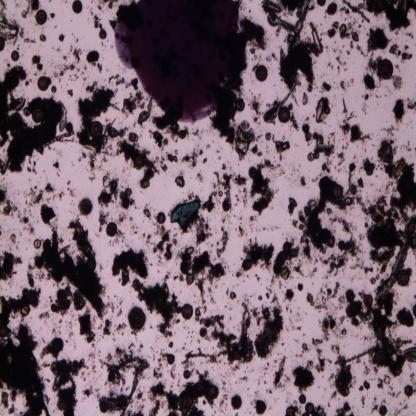Background material: (0, 67, 74, 173), (32, 229, 108, 320), (0, 285, 50, 415), (290, 175, 364, 257), (74, 81, 126, 160), (40, 336, 86, 415), (367, 308, 416, 378), (141, 370, 214, 416), (208, 302, 255, 368), (362, 202, 404, 272), (132, 277, 181, 337), (378, 136, 416, 211), (279, 29, 324, 92), (118, 140, 160, 190), (212, 110, 256, 157), (364, 0, 416, 34), (256, 303, 286, 360), (194, 250, 226, 303), (339, 96, 373, 144), (99, 343, 136, 387), (250, 160, 277, 219), (300, 123, 335, 168), (326, 235, 362, 278), (110, 249, 149, 286), (239, 238, 272, 278), (240, 15, 270, 58), (274, 240, 305, 280), (67, 216, 96, 258), (144, 224, 176, 260), (50, 46, 82, 82), (329, 352, 353, 400), (154, 115, 189, 142), (315, 282, 345, 313), (326, 205, 354, 238), (212, 170, 233, 213), (192, 306, 228, 329), (291, 360, 315, 394), (0, 0, 19, 40), (341, 0, 370, 25), (0, 251, 23, 281), (97, 175, 119, 206), (257, 3, 284, 28), (180, 347, 217, 365), (78, 309, 97, 344), (97, 394, 130, 414), (284, 302, 305, 333), (376, 286, 396, 318), (22, 185, 44, 214), (0, 184, 19, 217), (346, 301, 368, 328), (403, 210, 416, 255), (395, 303, 416, 330), (272, 134, 292, 162), (320, 314, 340, 342), (193, 216, 211, 247), (314, 347, 332, 378), (234, 171, 248, 210), (247, 93, 264, 125), (176, 244, 194, 274), (343, 348, 371, 367), (346, 24, 361, 57), (40, 203, 58, 230), (150, 351, 167, 379), (389, 42, 412, 62), (314, 96, 331, 123), (87, 150, 100, 182), (86, 351, 98, 385), (216, 227, 228, 260), (202, 191, 218, 215), (181, 147, 199, 168), (95, 206, 110, 231), (392, 98, 406, 124), (321, 21, 339, 41), (362, 73, 382, 91), (119, 189, 136, 210), (152, 128, 168, 150), (361, 155, 376, 177), (218, 378, 228, 408), (286, 194, 298, 218), (375, 374, 393, 390), (20, 216, 35, 235), (334, 402, 354, 416), (86, 49, 100, 68), (25, 264, 36, 288), (101, 318, 114, 338), (125, 77, 141, 92), (390, 74, 403, 92), (265, 284, 278, 302), (30, 54, 43, 72), (335, 56, 348, 74), (338, 150, 348, 173), (112, 232, 126, 248), (340, 78, 354, 94), (108, 72, 124, 86), (286, 402, 302, 416), (128, 216, 139, 236), (319, 80, 331, 98), (367, 53, 377, 74), (325, 3, 339, 18), (359, 93, 370, 112), (298, 341, 310, 358), (379, 124, 394, 137), (386, 385, 402, 397), (394, 403, 408, 416), (66, 180, 76, 198), (93, 15, 104, 31), (116, 210, 127, 226), (272, 372, 282, 389), (0, 392, 10, 409), (358, 380, 371, 393), (116, 295, 124, 316), (116, 320, 127, 335), (348, 157, 357, 175), (142, 204, 152, 220), (314, 404, 327, 416), (126, 130, 139, 142), (236, 225, 248, 238), (165, 152, 179, 163), (306, 291, 315, 308), (406, 97, 416, 112), (83, 386, 95, 398), (358, 392, 366, 410), (251, 145, 263, 157), (357, 44, 366, 60), (26, 160, 37, 173), (174, 175, 185, 188), (226, 288, 236, 302), (284, 288, 294, 302), (28, 0, 40, 11), (237, 374, 248, 386), (103, 0, 116, 10), (45, 182, 55, 195), (298, 174, 307, 188), (311, 336, 323, 346), (194, 172, 204, 184), (23, 35, 36, 44), (301, 92, 309, 106), (56, 190, 66, 201), (21, 8, 31, 19), (190, 127, 200, 137), (370, 276, 380, 286), (364, 265, 374, 275), (52, 160, 61, 171), (7, 404, 16, 414), (174, 273, 184, 282), (58, 32, 66, 43), (316, 0, 327, 8), (327, 61, 335, 72), (39, 32, 47, 43), (10, 233, 17, 245), (97, 62, 104, 74), (19, 25, 25, 39), (71, 36, 80, 45), (263, 387, 273, 395), (67, 88, 74, 99), (176, 373, 181, 388), (161, 162, 168, 172), (341, 327, 348, 336), (266, 132, 272, 142), (202, 157, 209, 165), (49, 12, 56, 20), (339, 316, 346, 324), (298, 283, 304, 292), (198, 148, 204, 156), (168, 340, 174, 348), (24, 80, 30, 87), (206, 144, 211, 152), (6, 62, 12, 68), (257, 296, 262, 302)
Cellulose filter fibre: (380, 232, 416, 292), (264, 73, 297, 123), (120, 361, 146, 415), (285, 0, 312, 50), (267, 14, 296, 34)
Diatom: (127, 309, 146, 330), (377, 58, 394, 80), (398, 269, 411, 288), (254, 65, 269, 81), (254, 399, 267, 415), (180, 304, 193, 320), (79, 199, 92, 215), (280, 264, 291, 282), (31, 108, 44, 123), (91, 121, 103, 137), (376, 34, 388, 49), (230, 394, 242, 409), (36, 9, 47, 25), (280, 107, 290, 124), (37, 76, 49, 90), (106, 222, 118, 236), (278, 356, 287, 374), (156, 209, 166, 224), (57, 288, 67, 303), (208, 384, 218, 399), (72, 0, 82, 14), (404, 384, 414, 398), (363, 294, 373, 307), (346, 290, 356, 303), (334, 184, 342, 199), (304, 402, 314, 414), (378, 404, 388, 416), (10, 49, 20, 61), (182, 368, 191, 381), (135, 156, 144, 168), (0, 38, 7, 53), (65, 121, 73, 133), (186, 274, 194, 286), (199, 328, 208, 338), (166, 354, 175, 364), (327, 237, 335, 248), (339, 24, 347, 34), (148, 97, 152, 117), (50, 85, 57, 94), (299, 394, 306, 403), (12, 36, 18, 46), (34, 239, 40, 249), (99, 31, 106, 39)
Fragment: (171, 199, 201, 232)
Pen: (115, 0, 245, 121)
